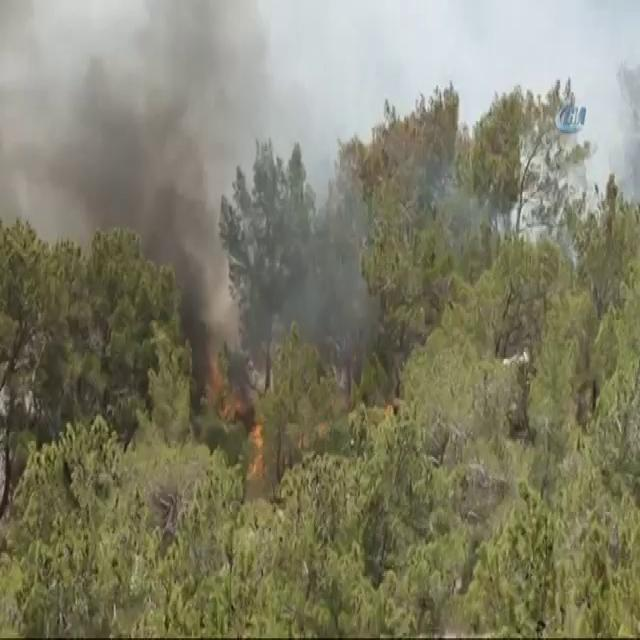Fire: (207, 338, 266, 471)
Smoke: (86, 46, 250, 270)
